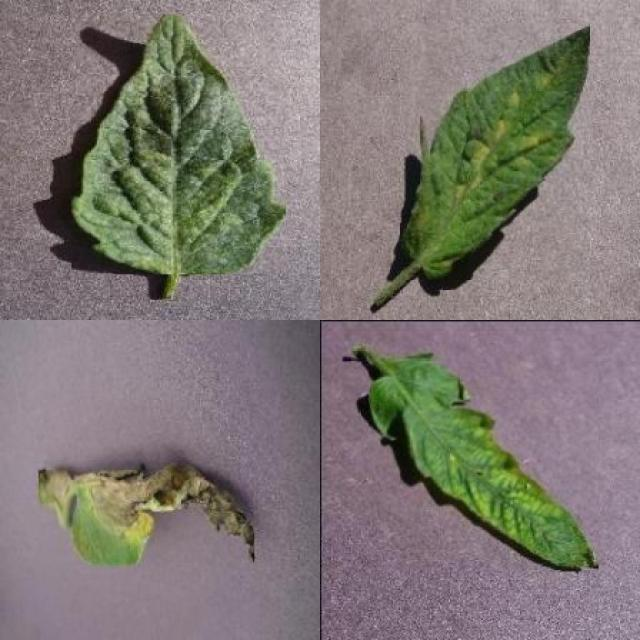Late Blight: (39, 460, 254, 567)
Leaf Mold: (406, 23, 590, 280)
Mosaic Virus: (368, 352, 598, 572)
Spider Mites: (72, 15, 285, 274)
